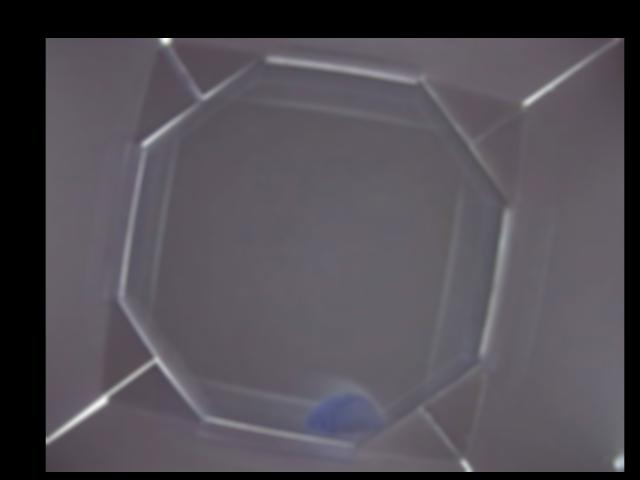Mooli: (302, 394, 383, 433)
